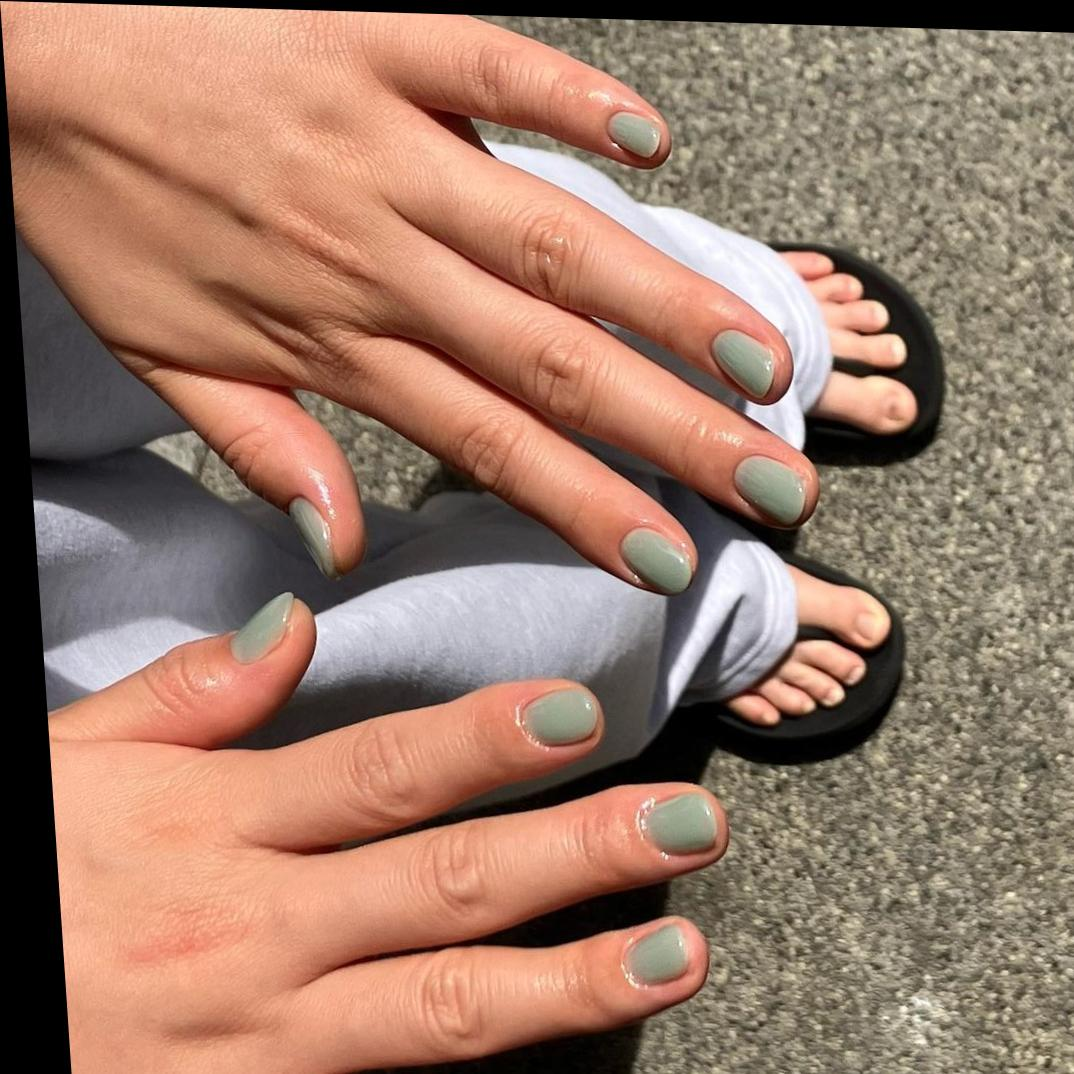nail: (635, 790, 723, 858), (514, 684, 603, 750), (225, 589, 300, 667), (616, 525, 697, 597), (730, 454, 811, 526), (618, 921, 695, 990), (707, 328, 779, 401), (287, 496, 340, 580), (603, 111, 664, 160)
